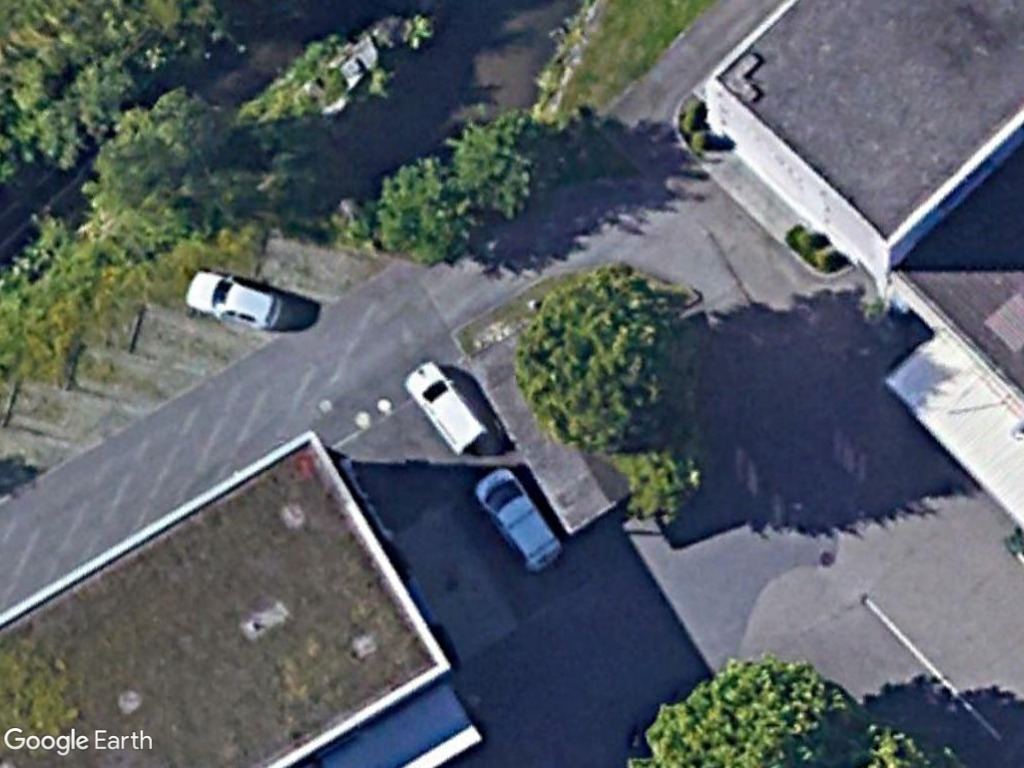car: (398, 358, 488, 457), (181, 268, 288, 332)
van: (471, 463, 566, 572)
